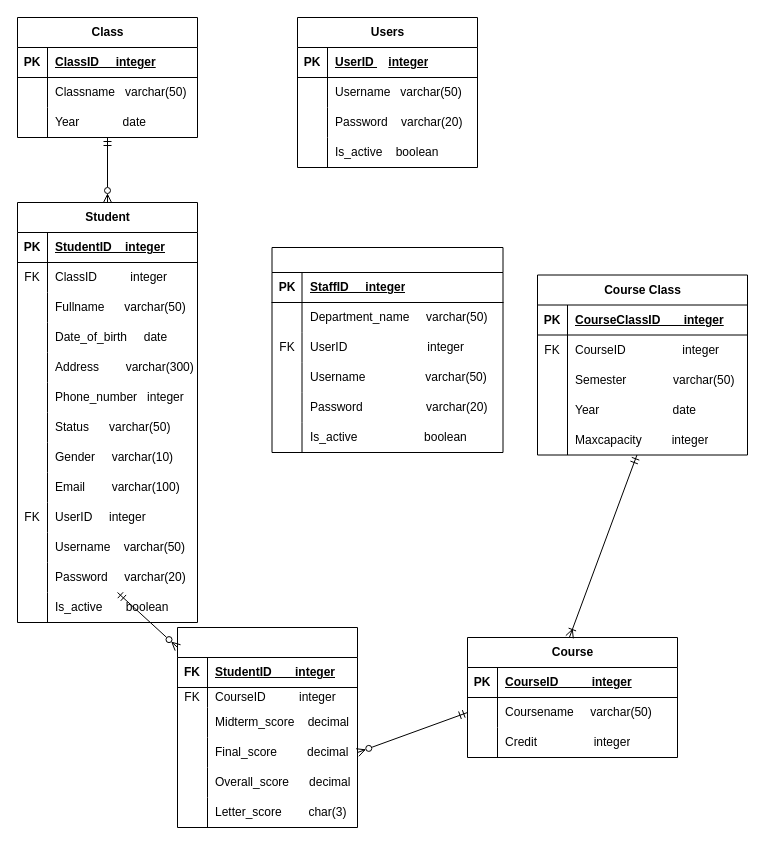
This 765x845 diagram has some shape labels left out. Each missing label, with the box of its shape:
Administrator: (271, 246, 503, 452)
Grade: (176, 626, 358, 828)
